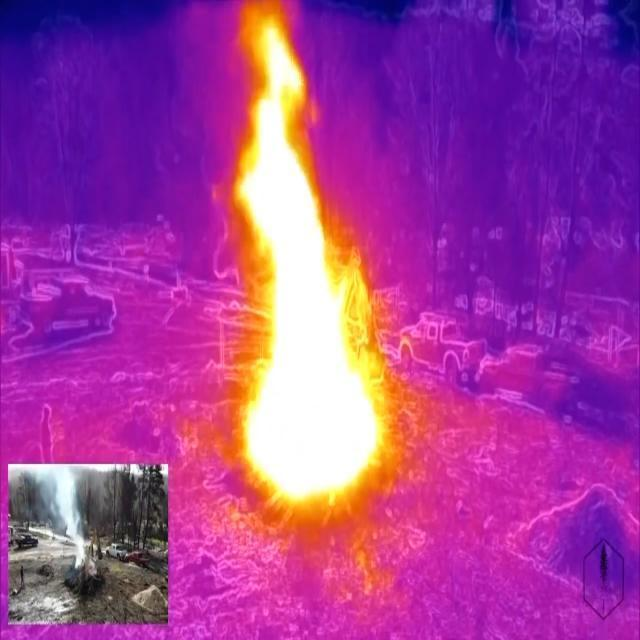fire: (235, 17, 383, 505)
